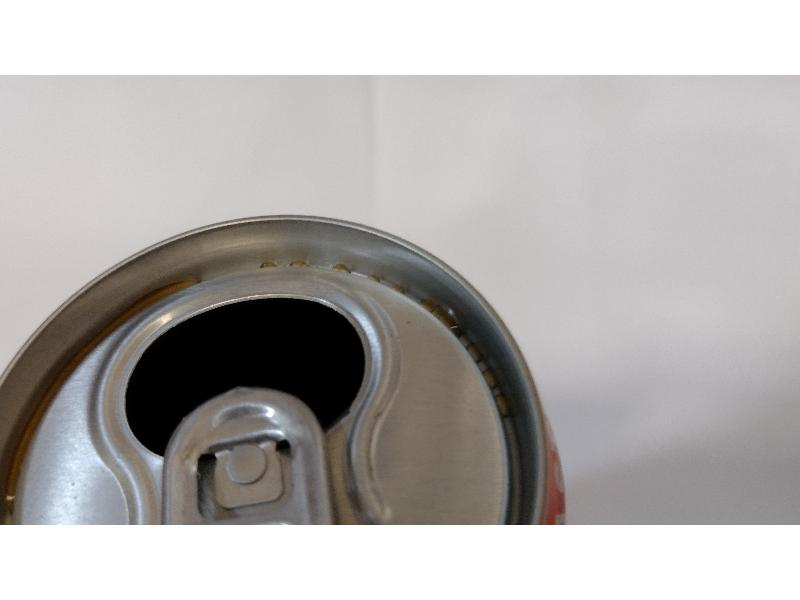can: (1, 204, 582, 522)
